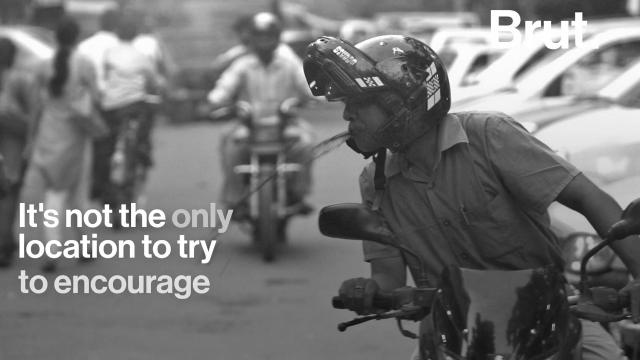spit: (231, 95, 411, 242)
